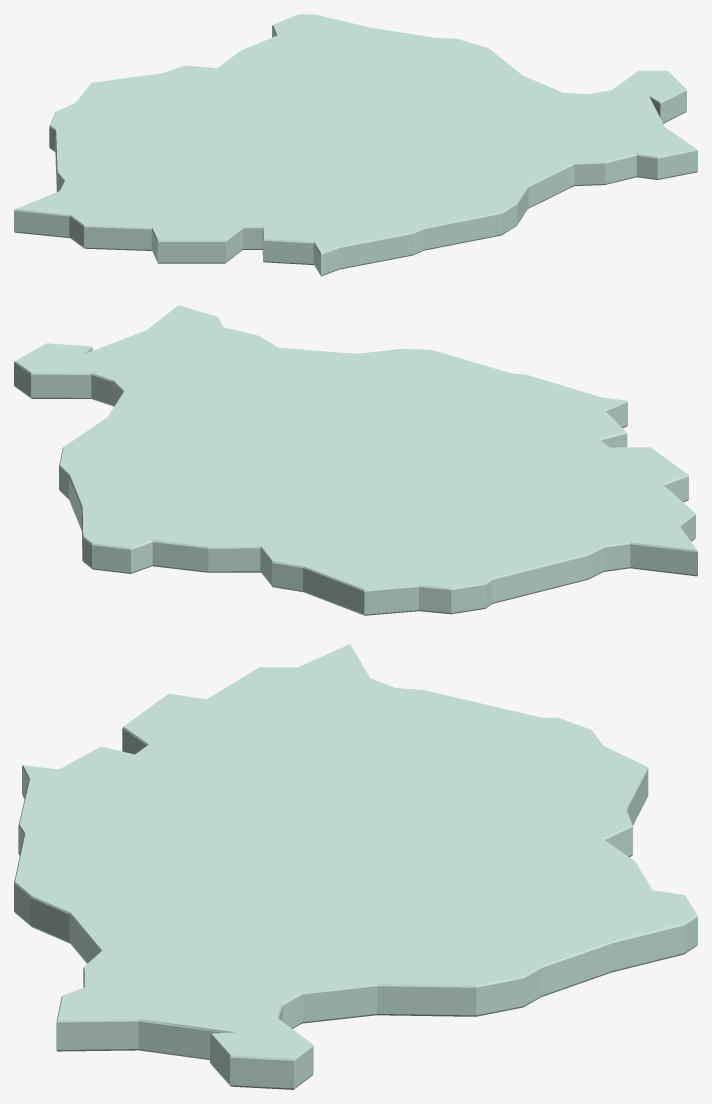
The model's file is ROU.glb.
3 renders of one model, top to bottom at view 1: azimuth 30°, elevation 25°; view 2: azimuth 150°, elevation 25°; view 3: azimuth 270°, elevation 25°, orthographic. The views are drawn at different scales.
Bounding box in the file's own units: 1.93 × 0.068 × 1.34.
